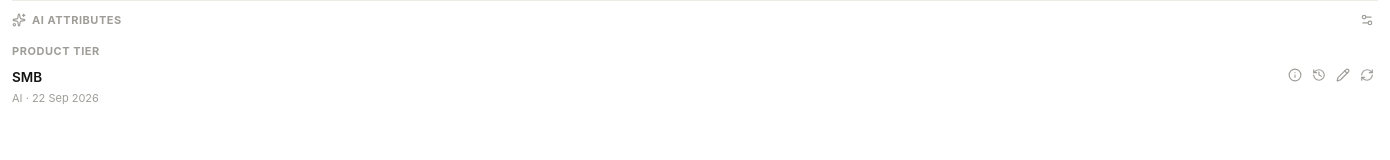
Scenario: AIAttributesPanel › refreshes one attribute and shows the new answer
Check: the text "SMB" is shown, box [12,68,42,84]
What coordinates should you click on to do the following:
click the button named "Refresh Product tier"
I would click on:
 (1367, 74)
Its box is [1356,64,1378,86].
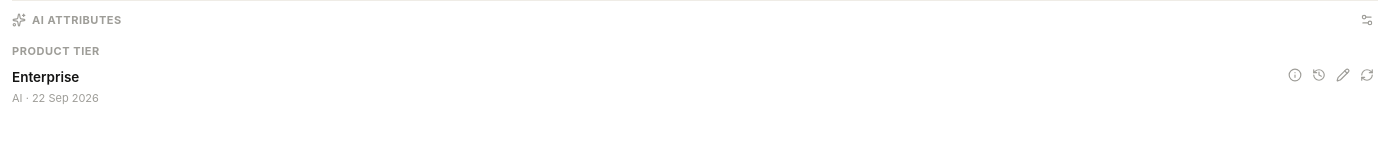
Check: the text "Enterprise" is shown, box [12,68,79,84]
